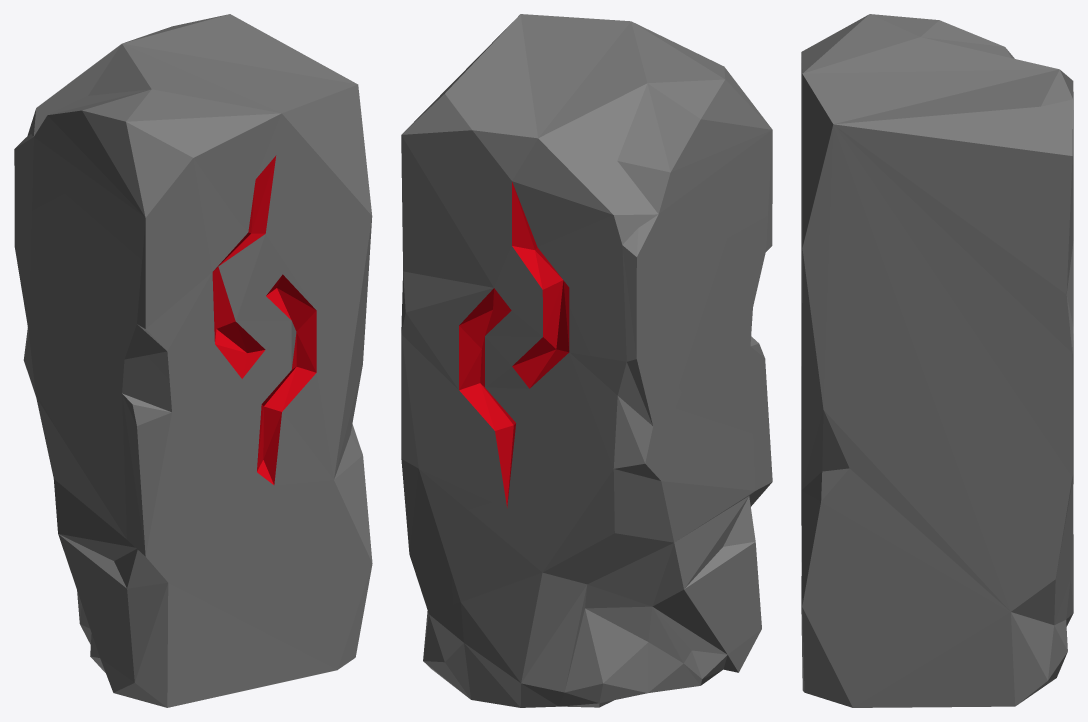
Rendered from RedPillar.fbx.
3 renders of one model, left to right at view 1: azimuth 30°, elevation 25°; view 2: azimuth 150°, elevation 25°; view 3: azimuth 270°, elevation 25°, orthographic. The views are drawn at different scales.
Parts seen in each view (by area): view 1: SM_Env_Rune_Pillar_05; view 2: SM_Env_Rune_Pillar_05; view 3: SM_Env_Rune_Pillar_05.
Part boxes in pixels (<box>): SM_Env_Rune_Pillar_05: <box>14,14,372,707</box>; SM_Env_Rune_Pillar_05: <box>401,14,772,707</box>; SM_Env_Rune_Pillar_05: <box>801,14,1073,707</box>.
Size of the model in its own units: 100 by 238 by 100.
